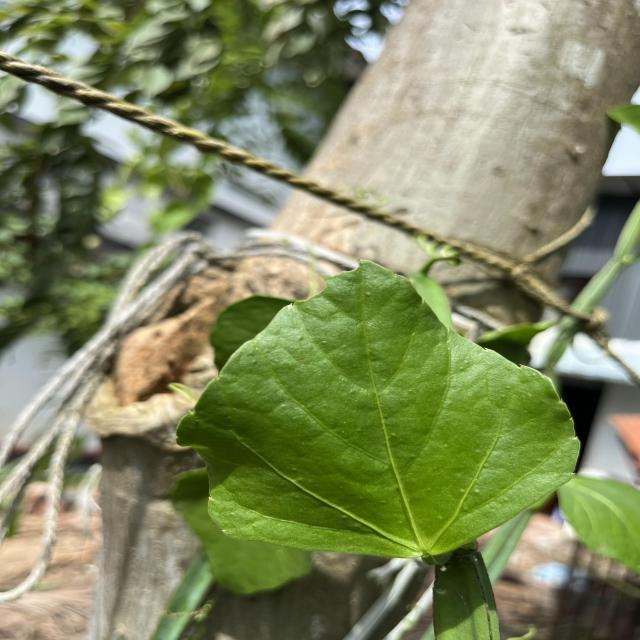Cissus quadrangularis: (169, 255, 587, 563)
